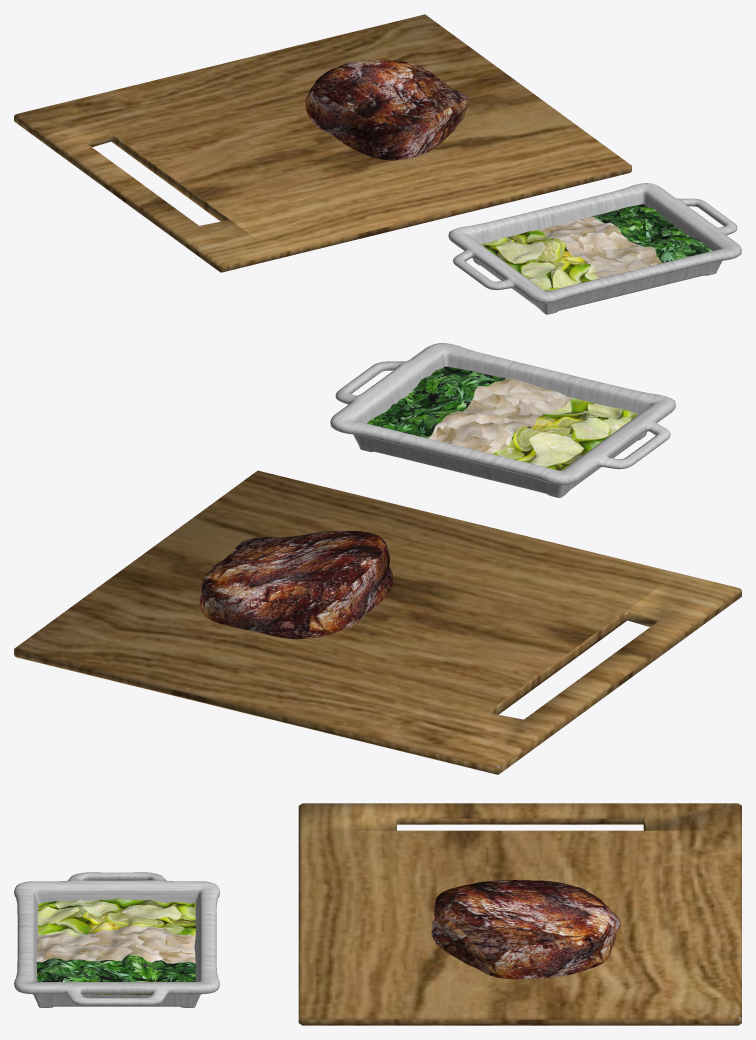
Rendered from tabla.obj.
The picture shows the model from 3 angles, top to bottom: view 1: azimuth 30°, elevation 25°; view 2: azimuth 150°, elevation 25°; view 3: azimuth 270°, elevation 25°; orthographic projection. The views are drawn at different scales.
Parts seen in each view (by area): view 1: tabla; view 2: tabla; view 3: tabla.
Part boxes in pixels (<box>): tabla: <box>14,14,741,314</box>; tabla: <box>14,343,741,774</box>; tabla: <box>14,803,741,1025</box>.
Size of the model in its own units: 5.98 by 0.649 by 8.53.
